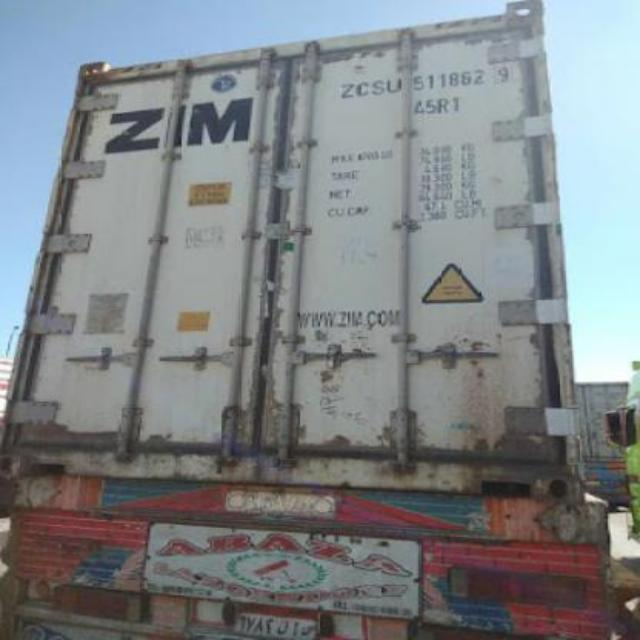1: (424, 72, 438, 92), (438, 70, 448, 92)
2: (474, 69, 486, 85)
5: (412, 75, 426, 91)
6: (461, 69, 474, 87)
8: (448, 72, 462, 88)
9: (498, 68, 512, 82)
C: (358, 81, 372, 97)
S: (372, 80, 388, 94)
U: (386, 78, 402, 94)
Z: (341, 83, 354, 99)
